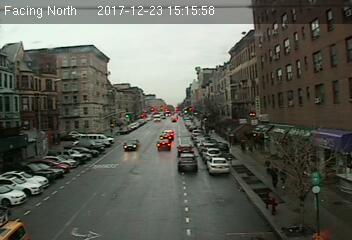car: (177, 152, 198, 173), (208, 156, 230, 173), (122, 138, 140, 151), (156, 139, 171, 151), (176, 144, 196, 153)
pedestrian: (267, 166, 280, 189)
